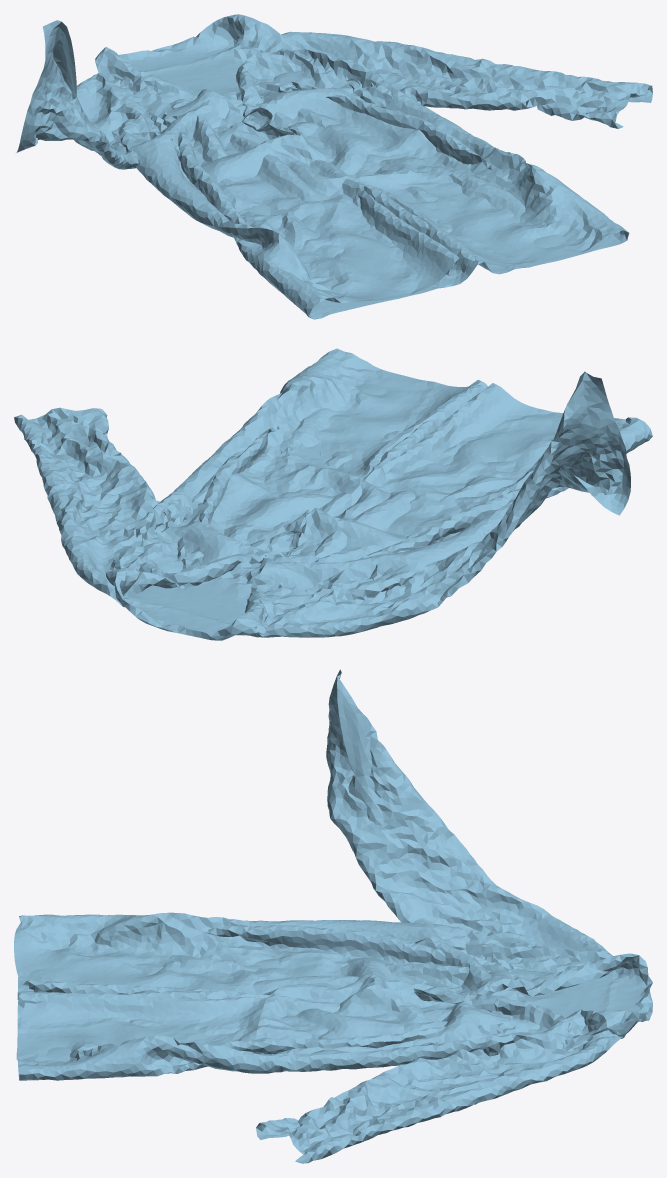
The model's file is frame_05.glb.
3 renders of one model, top to bottom at view 1: azimuth 30°, elevation 25°; view 2: azimuth 150°, elevation 25°; view 3: azimuth 270°, elevation 25°, orthographic.
Visible parts, largest first — view 1: frame_05.obj; view 2: frame_05.obj; view 3: frame_05.obj.
Boxes of the visible parts, x1,y1,x2,y2 form: frame_05.obj: [16, 14, 652, 319]; frame_05.obj: [14, 348, 652, 640]; frame_05.obj: [14, 669, 652, 1163].
Bounding box in the file's own units: 1.9 × 0.6064 × 1.68.
